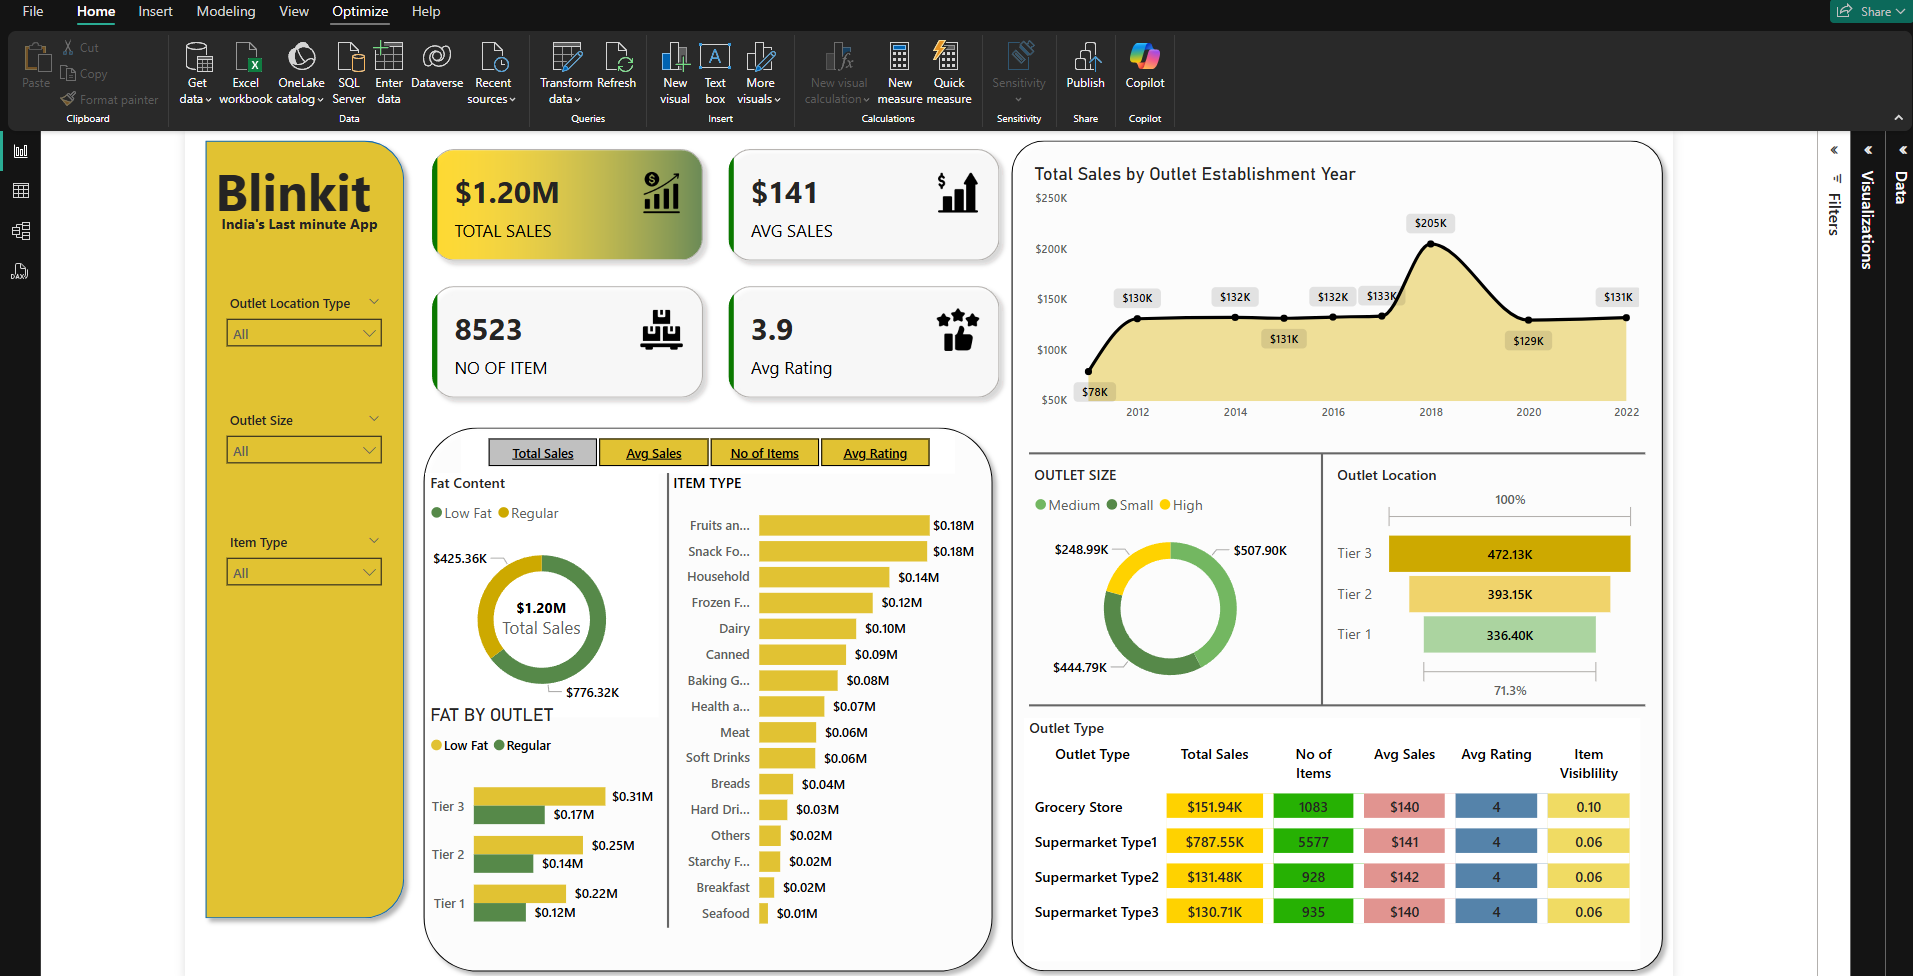

What the dashboard file says about the page in this screenshot:
{"tool":"powerbi","page":{"name":"Page 1","canvas":[1400,800],"ordinal":0},"visuals":[{"type":"shape","box":[10,0,205,750],"z":0},{"type":"textbox","box":[23.6,17.9,177.4,73.6],"z":1000},{"type":"textbox","box":[29.2,73.6,166,34.9],"z":2000},{"type":"cardVisual","fields":{"Data":["BlinkIT Grocery Data.Total Sales","BlinkIT Grocery Data.Avg Sales","BlinkIT Grocery Data.No of Items","BlinkIT Grocery Data.Avg Rating"]},"box":[215.1,0,569.8,269.8],"z":3000},{"type":"shape","box":[215.1,269.8,553.8,530.2],"z":4000},{"type":"donutChart","title":"Fat Content","fields":{"Y":["BlinkIT Grocery Data.Total Sales"],"Category":["BlinkIT Grocery Data.Item Fat Content"]},"box":[225.5,321.7,219.8,230.2],"z":5000},{"type":"slicer","fields":{"Values":["Metrics.Metrics"]},"box":[259.4,282.1,465.1,39.6],"z":6000},{"type":"cardVisual","fields":{"Data":["BlinkIT Grocery Data.Total Sales"]},"box":[275.5,409.4,119.8,97.2],"z":7000},{"type":"clusteredBarChart","title":"FAT BY OUTLET","fields":{"Y":["BlinkIT Grocery Data.Total Sales"],"Category":["BlinkIT Grocery Data.Outlet Location Type"],"Series":["BlinkIT Grocery Data.Item Fat Content"]},"box":[225.5,539.6,219.8,230.2],"z":8000},{"type":"shape","box":[445.3,321.7,18.9,428.3],"z":9000},{"type":"barChart","title":"ITEM TYPE","fields":{"Y":["BlinkIT Grocery Data.Total Sales"],"Category":["BlinkIT Grocery Data.Item Type"]},"box":[454.7,321.7,293.4,439.6],"z":10000},{"type":"shape","box":[768.9,0,631.1,800],"z":11000},{"type":"lineChart","fields":{"Category":["BlinkIT Grocery Data.Outlet Establishment Year"],"Y":["BlinkIT Grocery Data.Total Sales"]},"box":[794.4,30.1,579.8,252.2],"z":12000},{"type":"shape","box":[794.4,289.9,579.8,27.3],"z":13000},{"type":"donutChart","title":"OUTLET SIZE","fields":{"Y":["BlinkIT Grocery Data.Total Sales"],"Category":["BlinkIT Grocery Data.Outlet Size"]},"box":[794.4,314.4,266.4,224.9],"z":14000},{"type":"shape","box":[1060.7,304,18.8,237.2],"z":15000},{"type":"slicer","title":"OUTLET LOCATION","fields":{"Values":["BlinkIT Grocery Data.Outlet Location Type"]},"box":[29.2,149.1,166,63.2],"z":16000},{"type":"shape","box":[794.4,527.1,579.8,27.3],"z":17000},{"type":"pivotTable","title":"Outlet Type","fields":{"Values":["BlinkIT Grocery Data.Total Sales","BlinkIT Grocery Data.No of Items","BlinkIT Grocery Data.Avg Sales","BlinkIT Grocery Data.Avg Rating","Avg(BlinkIT Grocery Data.Item Visibility)"],"Rows":["BlinkIT Grocery Data.Outlet Type"]},"box":[789.6,552.5,579.8,228.7],"z":18000},{"type":"slicer","title":"OUTLET LOCATION","fields":{"Values":["BlinkIT Grocery Data.Outlet Size"]},"box":[29.2,258.5,166,63.2],"z":19000},{"type":"slicer","title":"OUTLET LOCATION","fields":{"Values":["BlinkIT Grocery Data.Item Type"]},"box":[29.2,373.6,166,63.2],"z":20000},{"type":"funnel","title":"Outlet Location","fields":{"Category":["BlinkIT Grocery Data.Outlet Location Type"],"Y":["Sum(BlinkIT Grocery Data.Sales)"]},"box":[1079.2,314.2,290.6,226.4],"z":21000}]}

Visuals, with their boxes on the page's 1400x800 design canvas (x1, y1, x2, y2). These are canvas units, not pixel positions in the 1913x976 screenshot, which may show the page scaled, cropped or inside an application window:
shape: (10, 0, 215, 750)
textbox: (24, 18, 201, 92)
textbox: (29, 74, 195, 108)
cardVisual - BlinkIT Grocery Data.Total Sales x BlinkIT Grocery Data.Avg Sales: (215, 0, 785, 270)
shape: (215, 270, 769, 800)
"Fat Content" donutChart: (226, 322, 445, 552)
slicer - Metrics.Metrics: (259, 282, 724, 322)
cardVisual - BlinkIT Grocery Data.Total Sales: (276, 409, 395, 507)
"FAT BY OUTLET" clusteredBarChart: (226, 540, 445, 770)
shape: (445, 322, 464, 750)
"ITEM TYPE" barChart: (455, 322, 748, 761)
shape: (769, 0, 1400, 800)
lineChart - BlinkIT Grocery Data.Outlet Establishment Year x BlinkIT Grocery Data.Total Sales: (794, 30, 1374, 282)
shape: (794, 290, 1374, 317)
"OUTLET SIZE" donutChart: (794, 314, 1061, 539)
shape: (1061, 304, 1080, 541)
"OUTLET LOCATION" slicer: (29, 149, 195, 212)
shape: (794, 527, 1374, 554)
"Outlet Type" pivotTable: (790, 552, 1369, 781)
"OUTLET LOCATION" slicer: (29, 258, 195, 322)
"OUTLET LOCATION" slicer: (29, 374, 195, 437)
"Outlet Location" funnel: (1079, 314, 1370, 541)
